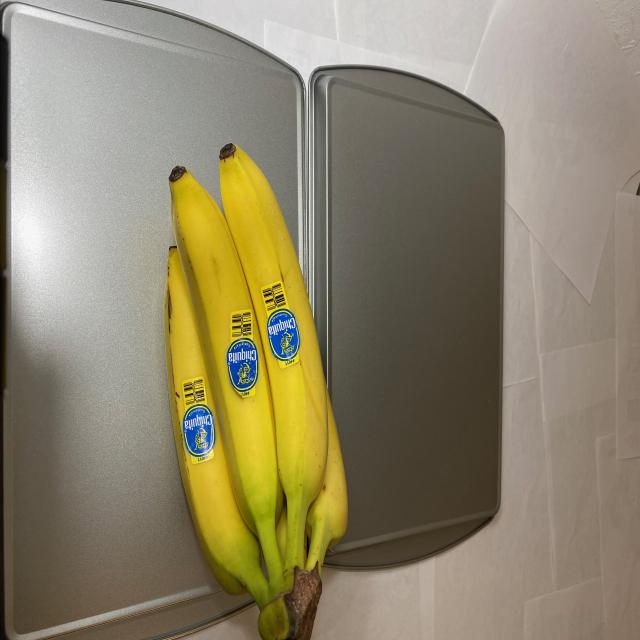banana: (140, 140, 352, 625)
